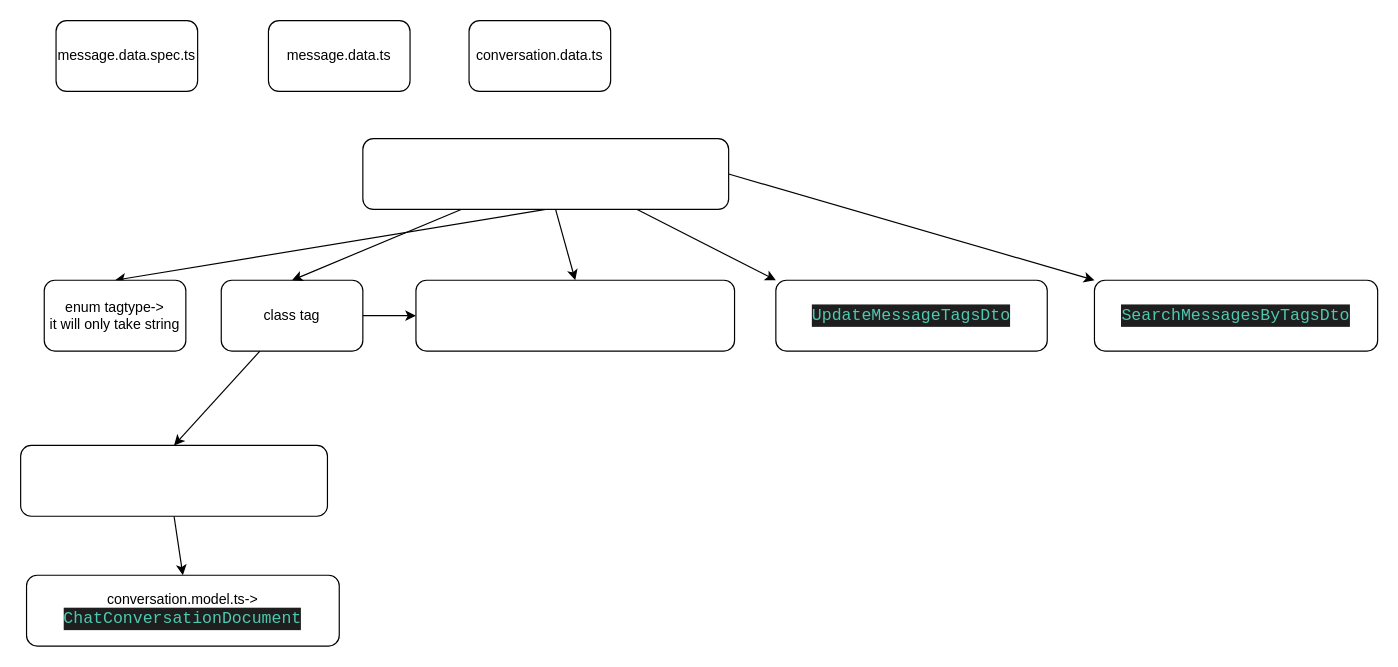
Some shapes in this 1398 by 667 pixel diagram are drawn without their labels. Here are the shapes that lost their labels. From the top down, the box of each, then its label:
(362, 137, 729, 209): CreateChatConversation.dto.ts
(415, 279, 735, 351): CreateChatConversationDto
(19, 444, 327, 516): conversation.model.ts-> ChatConversationModel
